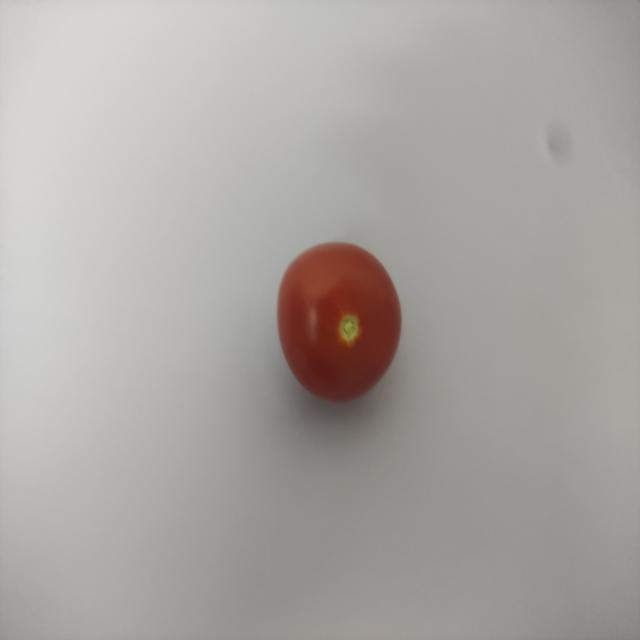kirmizi: (263, 220, 418, 416)
